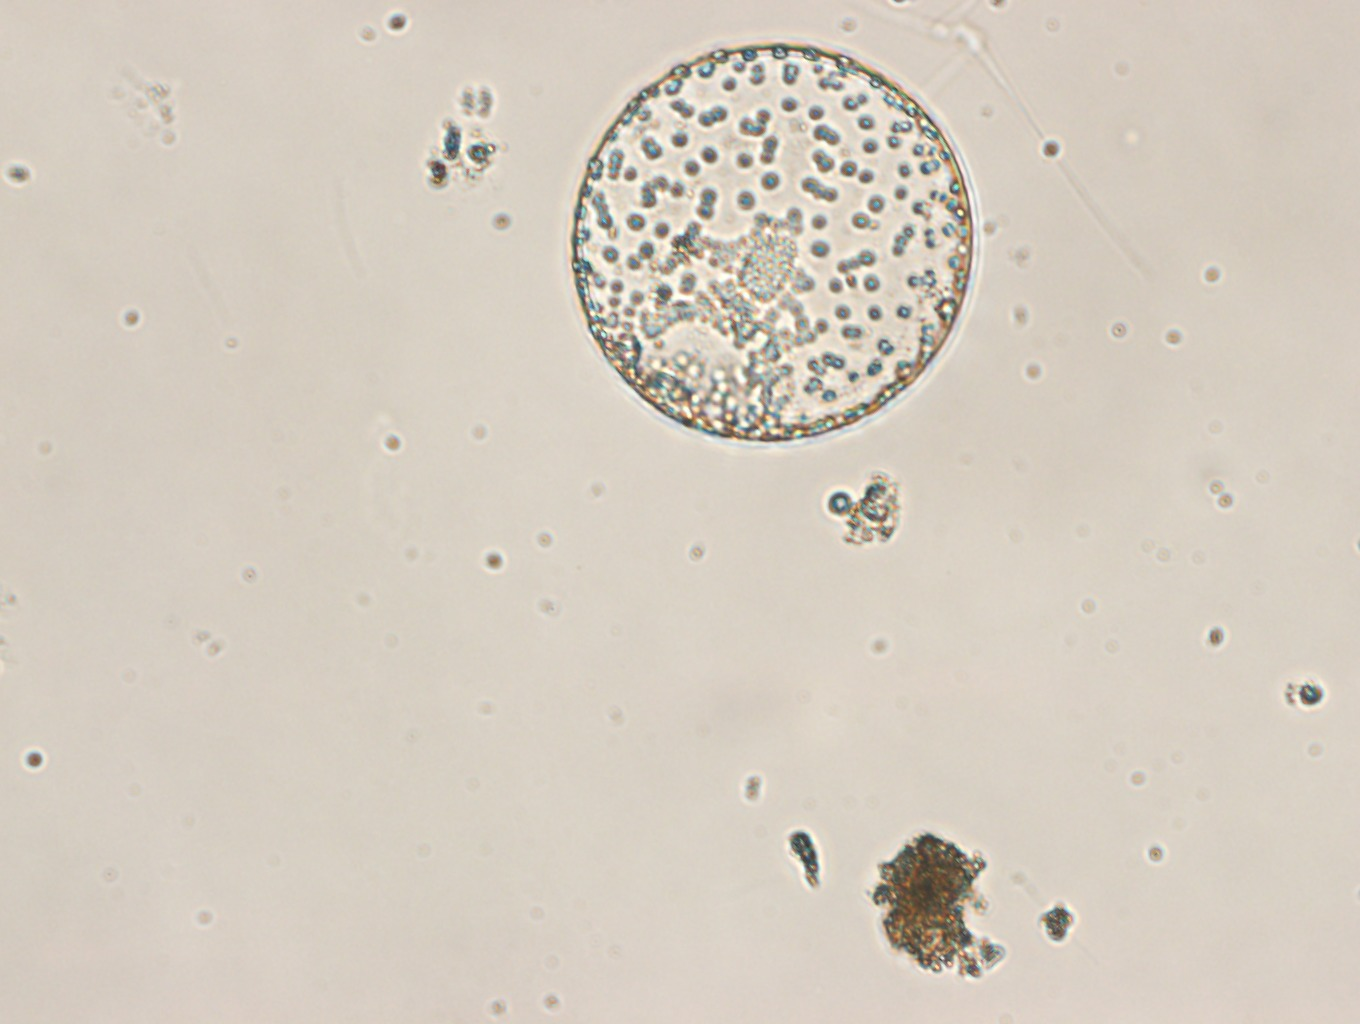coscinodiscus: (568, 42, 982, 449)
